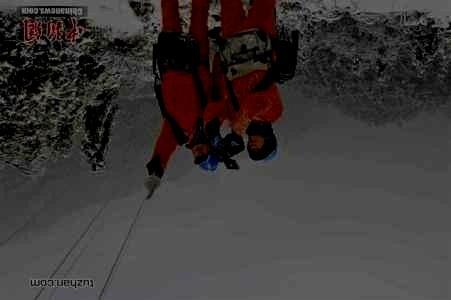helmet: (246, 125, 279, 167), (191, 142, 219, 173)
